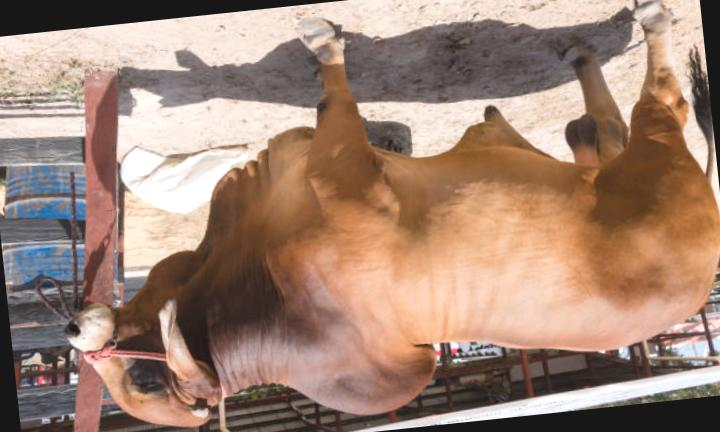Brahman: (67, 0, 720, 426)
